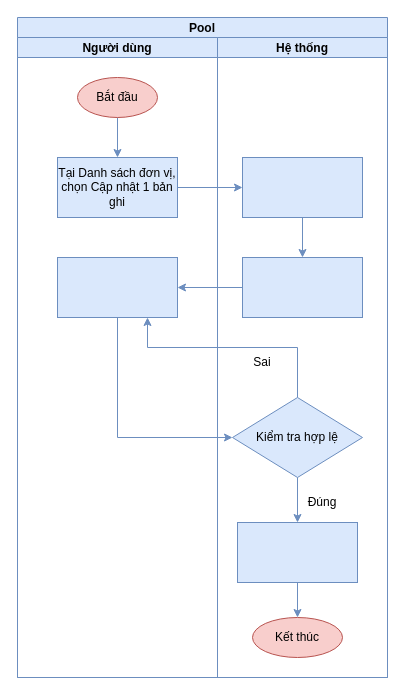
The diagram is 405 pixels wide and 695 high, and some of its shapes have lost their labels. The shapes that lost their labels are listed below. From the top down, each one's box as (x1, y1, x2, y2) in pixels, then its label:
(242, 156, 362, 218): Gọi API Cập nhật đơn vị
(56, 256, 178, 318): Nhâp các trường thông tin bắt buộc
(242, 256, 362, 318): Hiển thị màn hình cập nhật đơn vị
(236, 522, 358, 582): Hệ thống thực hiện lưu thông tin
